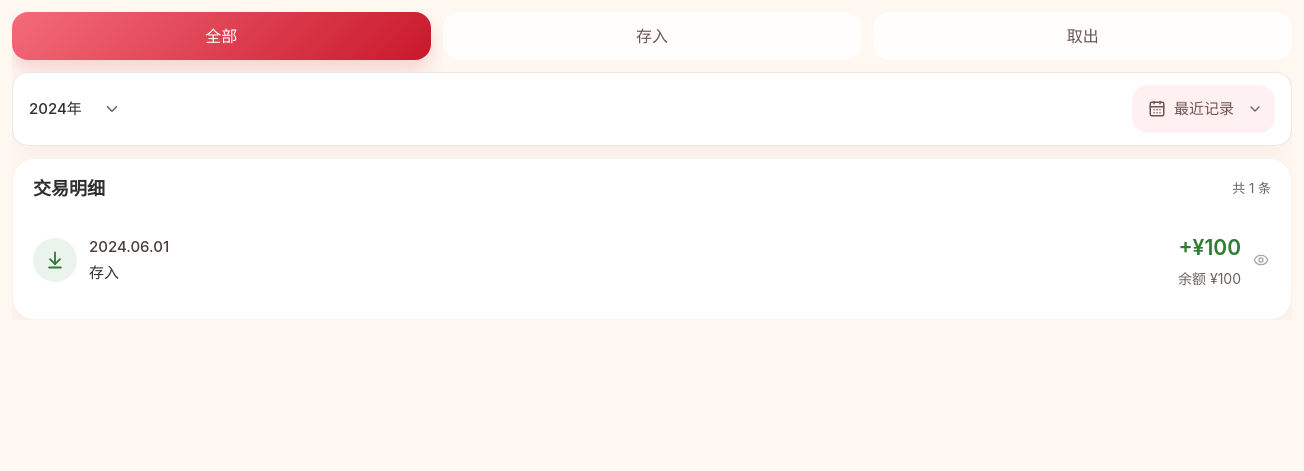
Test: TransactionsPanel › distinguishes an empty filter from an empty account
The width and height of the screenshot is (1304, 471).
Click the button "取出" at (1083,36), box [873,12,1292,60]
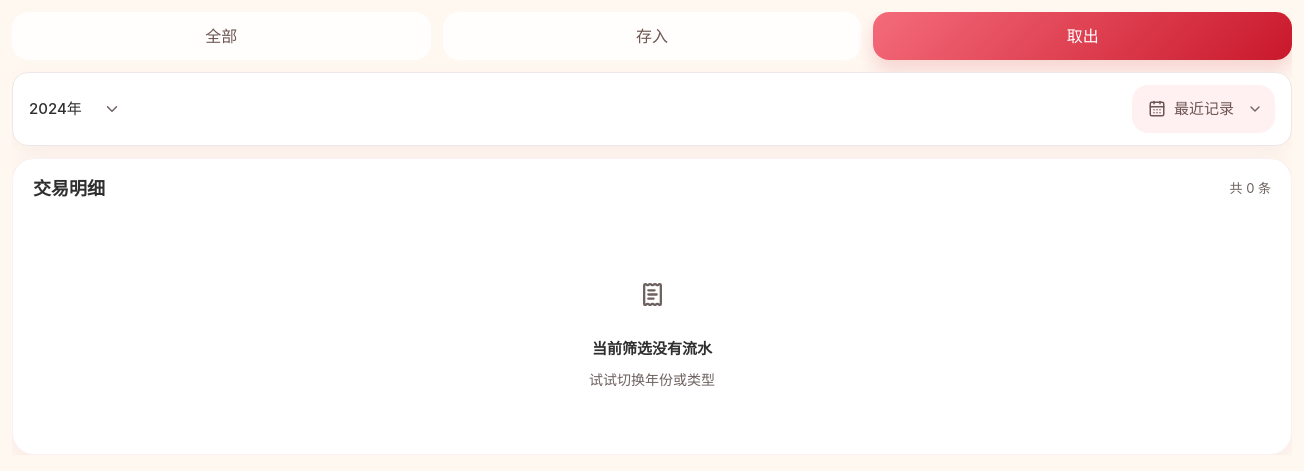
Result: the text "当前筛选没有流水" is shown at [592,338,712,360]
